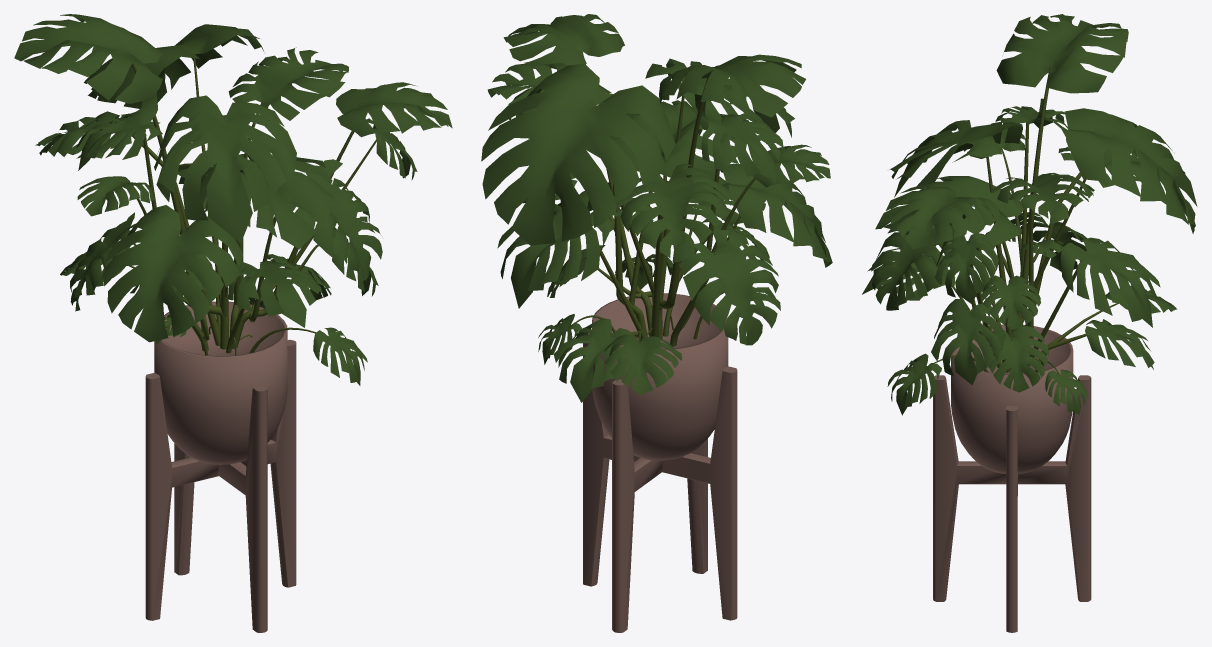
The model's file is plant.glb.
3 renders of one model, left to right at view 1: azimuth 30°, elevation 25°; view 2: azimuth 150°, elevation 25°; view 3: azimuth 270°, elevation 25°, orthographic. The views are drawn at different scales.
Visible parts, largest first — view 1: Leaves, Stand, Pot_LP, root_HP_1_Mat.2_0; view 2: Leaves, Stand, Pot_LP, root_HP_1_Mat.2_0; view 3: Leaves, Stand, Pot_LP, root_HP_1_Mat.2_0.
Boxes of the visible parts, x1=… form: Leaves: x1=14, y1=14, x2=452, y2=385; Stand: x1=145, y1=339, x2=296, y2=632; Pot_LP: x1=154, y1=301, x2=287, y2=464; root_HP_1_Mat.2_0: x1=129, y1=58, x2=376, y2=355; Leaves: x1=481, y1=14, x2=832, y2=402; Stand: x1=583, y1=333, x2=737, y2=632; Pot_LP: x1=592, y1=293, x2=728, y2=460; root_HP_1_Mat.2_0: x1=575, y1=51, x2=755, y2=346; Leaves: x1=862, y1=14, x2=1197, y2=415; Stand: x1=933, y1=375, x2=1091, y2=632; Pot_LP: x1=951, y1=324, x2=1073, y2=473; root_HP_1_Mat.2_0: x1=933, y1=68, x2=1118, y2=375.
Bounding box in the file's own units: 0.8695 × 1.36 × 0.7911.
